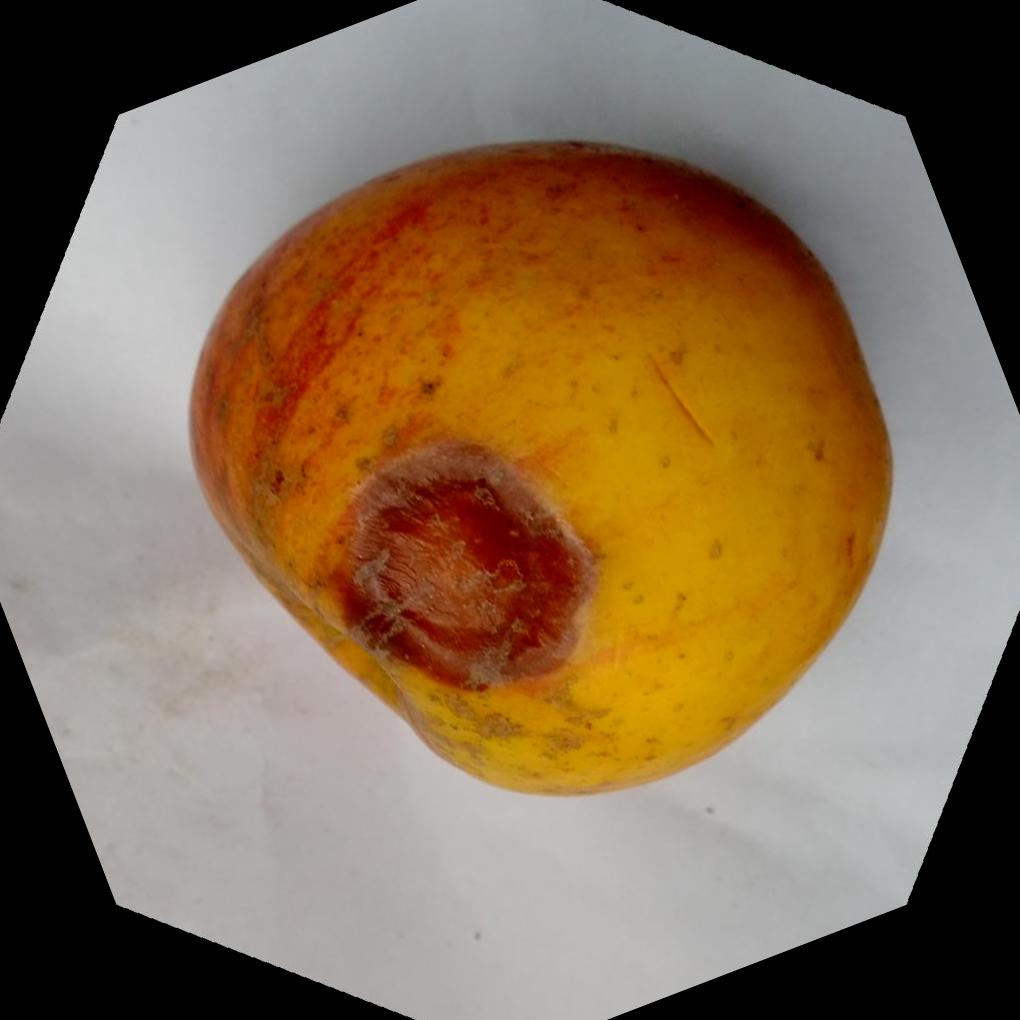FreshOrange: (181, 138, 891, 799)
